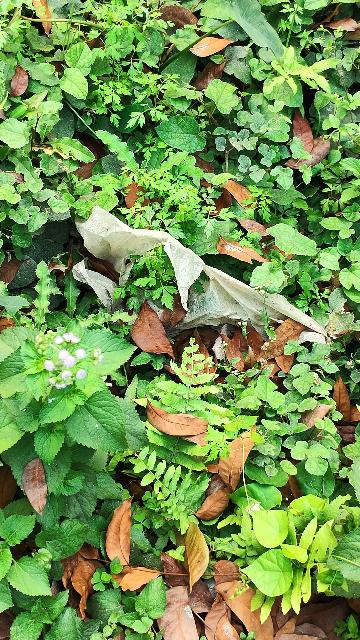polythene: (74, 208, 331, 346)
